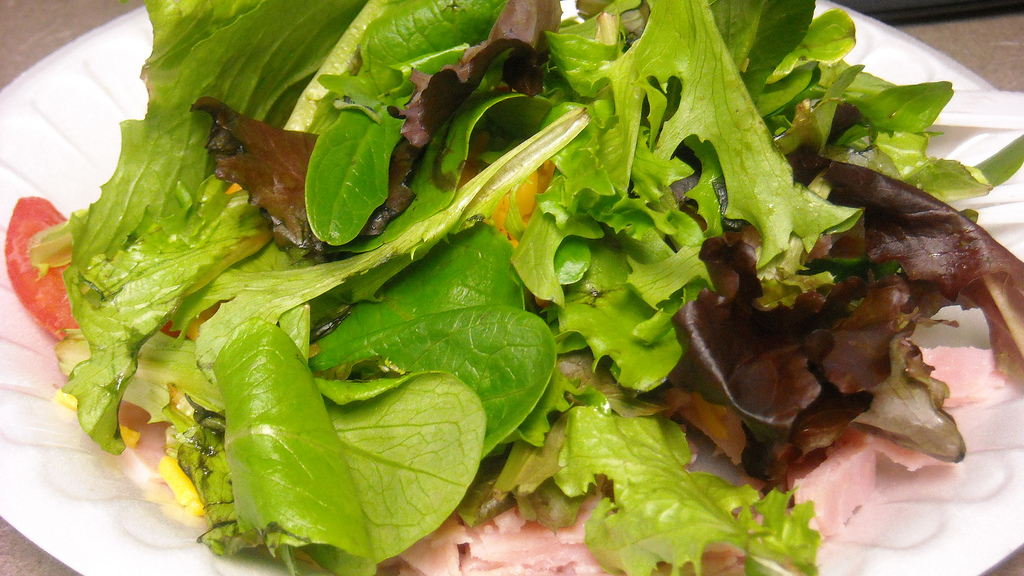chopped lettuce: (160, 90, 734, 526)
